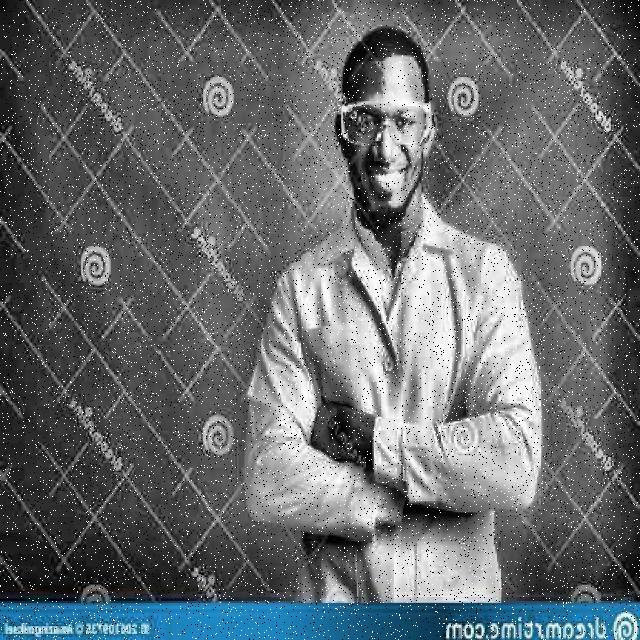Goggles: (327, 91, 451, 157)
